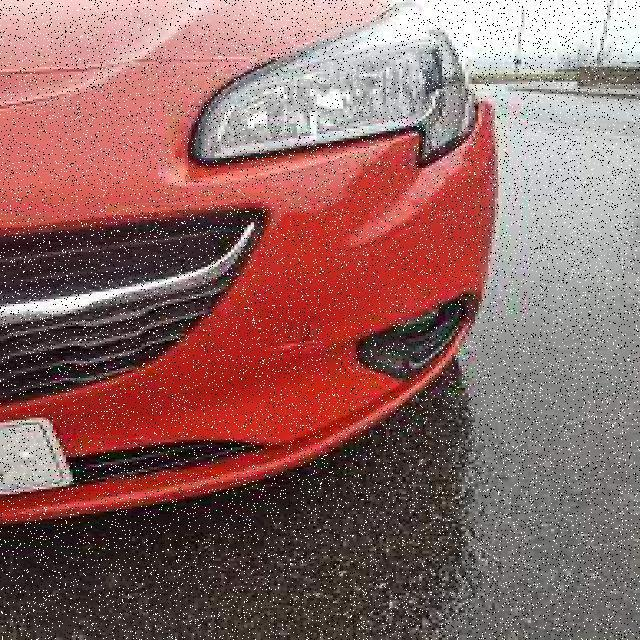front-bumper-dent: (0, 131, 525, 514)
